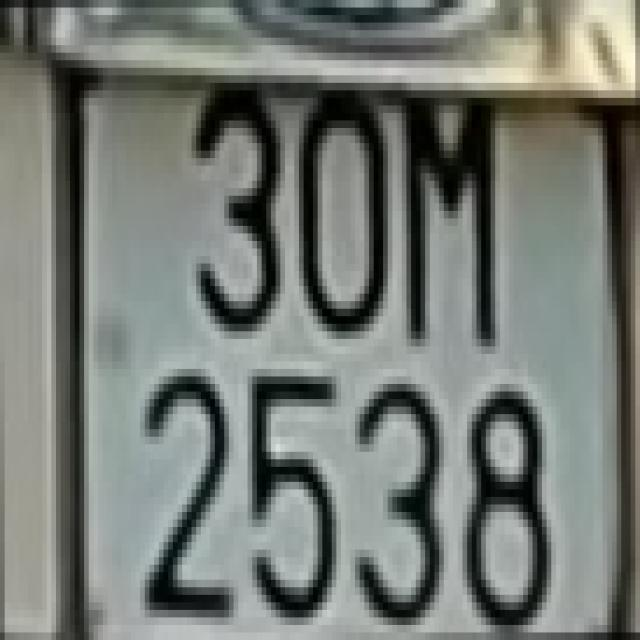0: (294, 83, 388, 339)
2: (140, 362, 234, 618)
3: (187, 76, 285, 332), (355, 376, 444, 625)
5: (248, 362, 336, 618)
8: (467, 384, 551, 625)
M: (397, 86, 514, 358)
